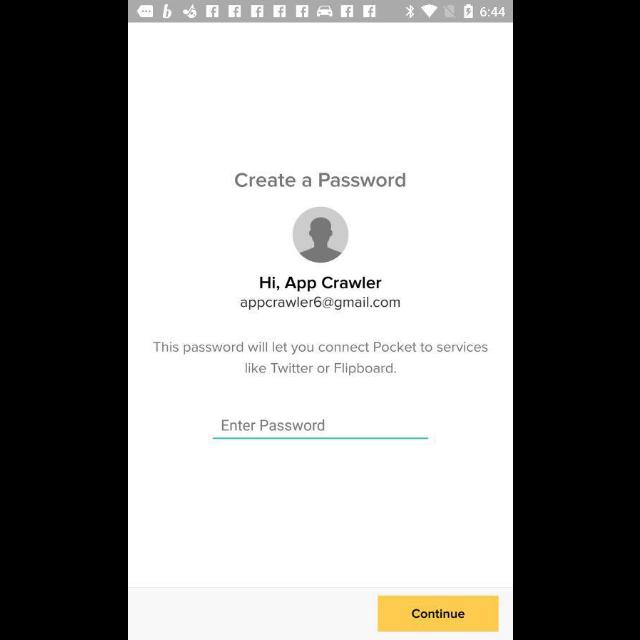icon: (292, 207, 348, 263)
input: (212, 420, 428, 440)
text: (152, 342, 488, 376), (234, 174, 406, 188), (240, 297, 400, 311), (259, 276, 381, 292), (222, 419, 324, 431)
textbutton: (377, 596, 499, 632)
uppertaskbar: (128, 1, 512, 23)
